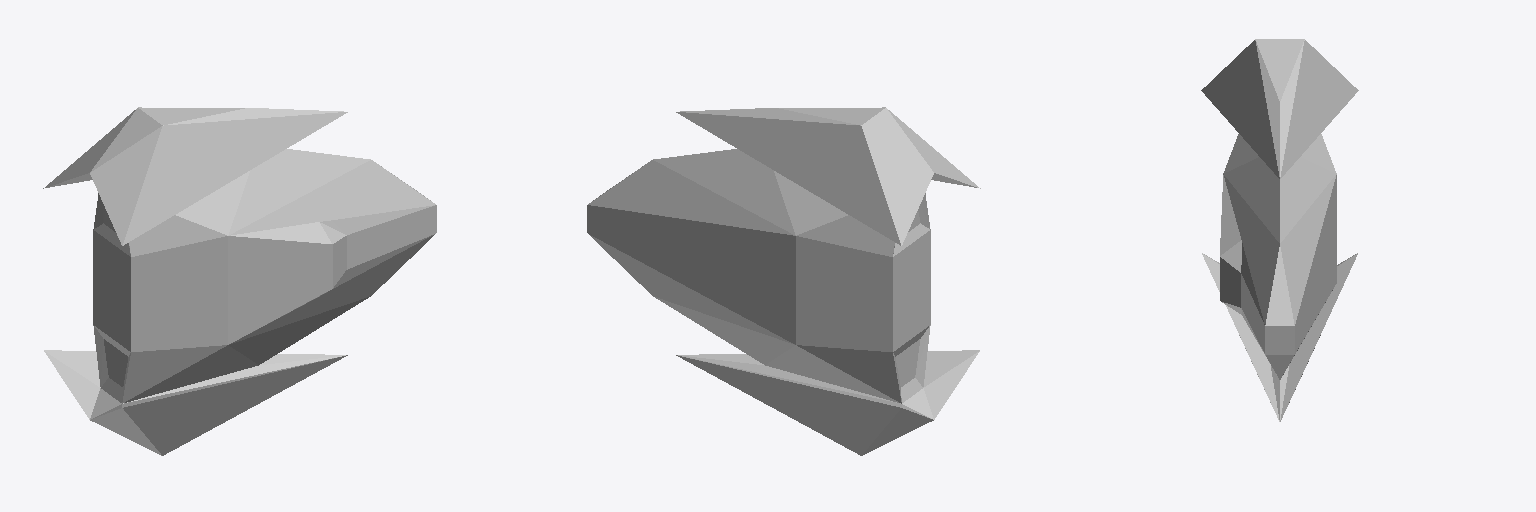
The model's file is craft.obj.
3 views of the same model, side by side, from view 1: azimuth 30°, elevation 25°; view 2: azimuth 150°, elevation 25°; view 3: azimuth 270°, elevation 25° (orthographic).
Visible parts, largest first — view 1: spaceship1; view 2: spaceship1; view 3: spaceship1.
Part boxes in pixels (x1,y1,x2,y2): spaceship1: (43, 107, 436, 455); spaceship1: (587, 107, 980, 455); spaceship1: (1201, 39, 1358, 421).
Bounding box in the file's own units: 7.05 × 6.43 × 2.78.